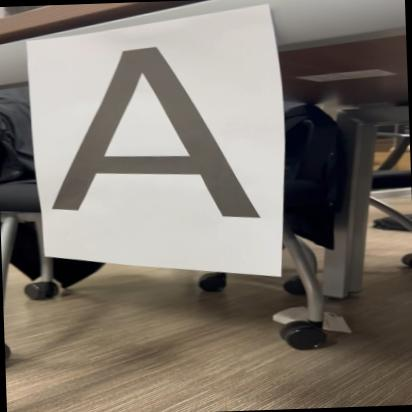seat: (45, 40, 263, 228)
